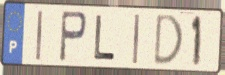1: (188, 14, 202, 69)
D: (152, 13, 185, 67)
I: (34, 9, 44, 63), (131, 13, 141, 66)
L: (93, 13, 117, 63)
P: (57, 9, 89, 64)
